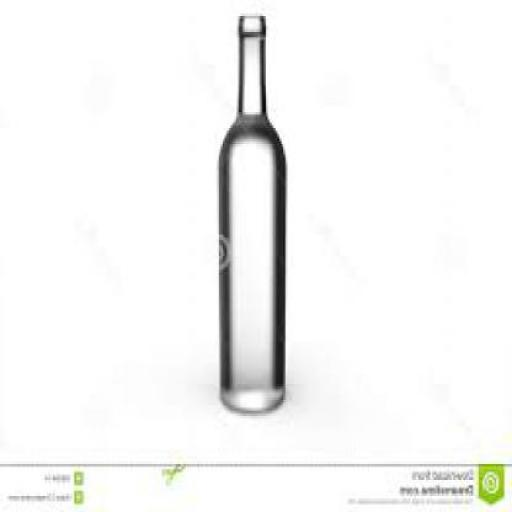glass: (221, 10, 285, 413)
